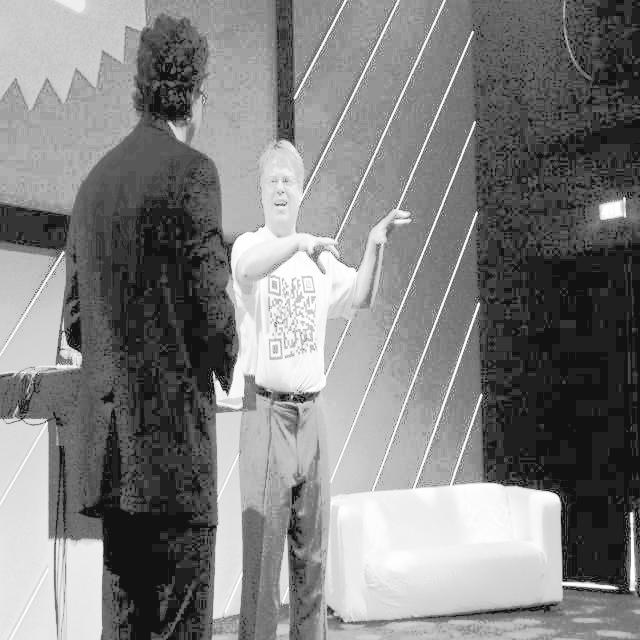qr_code: (268, 275, 317, 360)
